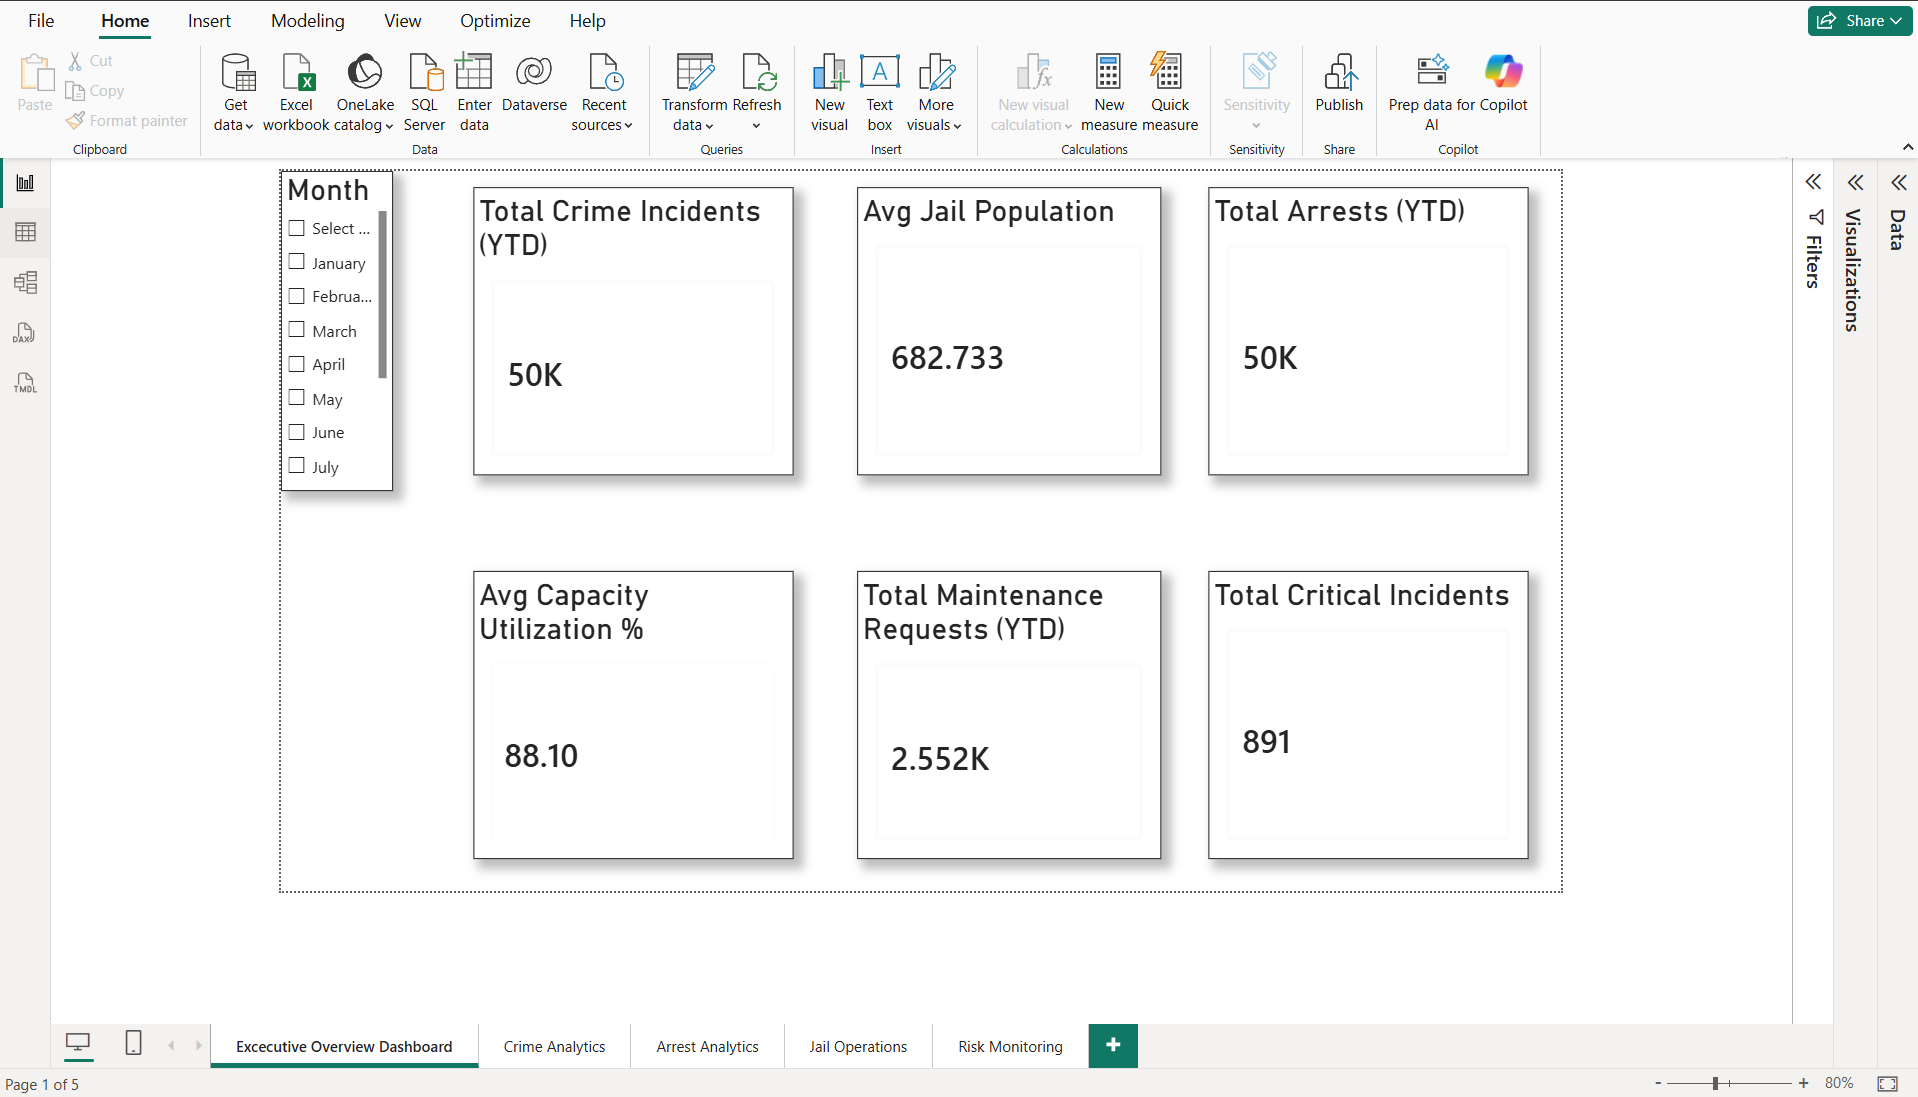

The dashboard page shown, as its layout file describes it:
{"tool":"powerbi","page":{"name":"Excecutive Overview Dashboard","canvas":[1280,720],"ordinal":0},"visuals":[{"type":"cardVisual","title":"Total Crime Incidents (YTD)","fields":{"Data":["Count(crime_incidents_clean.id)"]},"box":[192,16,320,288],"z":0},{"type":"cardVisual","title":"Total Arrests (YTD)","fields":{"Data":["CountNonNull(arrests_clean.arrest_date)"]},"box":[928,16,320,288],"z":1000},{"type":"cardVisual","title":"Avg Jail Population","fields":{"Data":["Avg(jail_operations.jail_population)"]},"box":[576,16,304,288],"z":2000},{"type":"cardVisual","title":"Avg Capacity Utilization %","fields":{"Data":["Avg(jail_operations.capacity_utilization_pct)"]},"box":[192,400,320,288],"z":3000},{"type":"cardVisual","title":"Total Maintenance Requests (YTD)","fields":{"Data":["Sum(jail_operations.maintenance_requests)"]},"box":[576,400,304,288],"z":4000},{"type":"cardVisual","title":"Total Critical Incidents","fields":{"Data":["Sum(jail_operations.critical_incidents)"]},"box":[928,400,320,288],"z":5000},{"type":"listSlicer","title":"Month","fields":{"Values":["crime_incidents_clean.incident_month_name"]},"box":[0,0,112,320],"z":6000}]}

Visuals, with their boxes on the page's 1280x720 design canvas (x1, y1, x2, y2). These are canvas units, not pixel positions in the 1918x1097 screenshot, which may show the page scaled, cropped or inside an application window:
"Total Crime Incidents (YTD)" cardVisual: detection(192, 16, 512, 304)
"Total Arrests (YTD)" cardVisual: detection(928, 16, 1248, 304)
"Avg Jail Population" cardVisual: detection(576, 16, 880, 304)
"Avg Capacity Utilization %" cardVisual: detection(192, 400, 512, 688)
"Total Maintenance Requests (YTD)" cardVisual: detection(576, 400, 880, 688)
"Total Critical Incidents" cardVisual: detection(928, 400, 1248, 688)
"Month" listSlicer: detection(0, 0, 112, 320)
